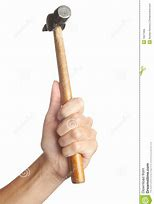hammer: (40, 4, 99, 185)
